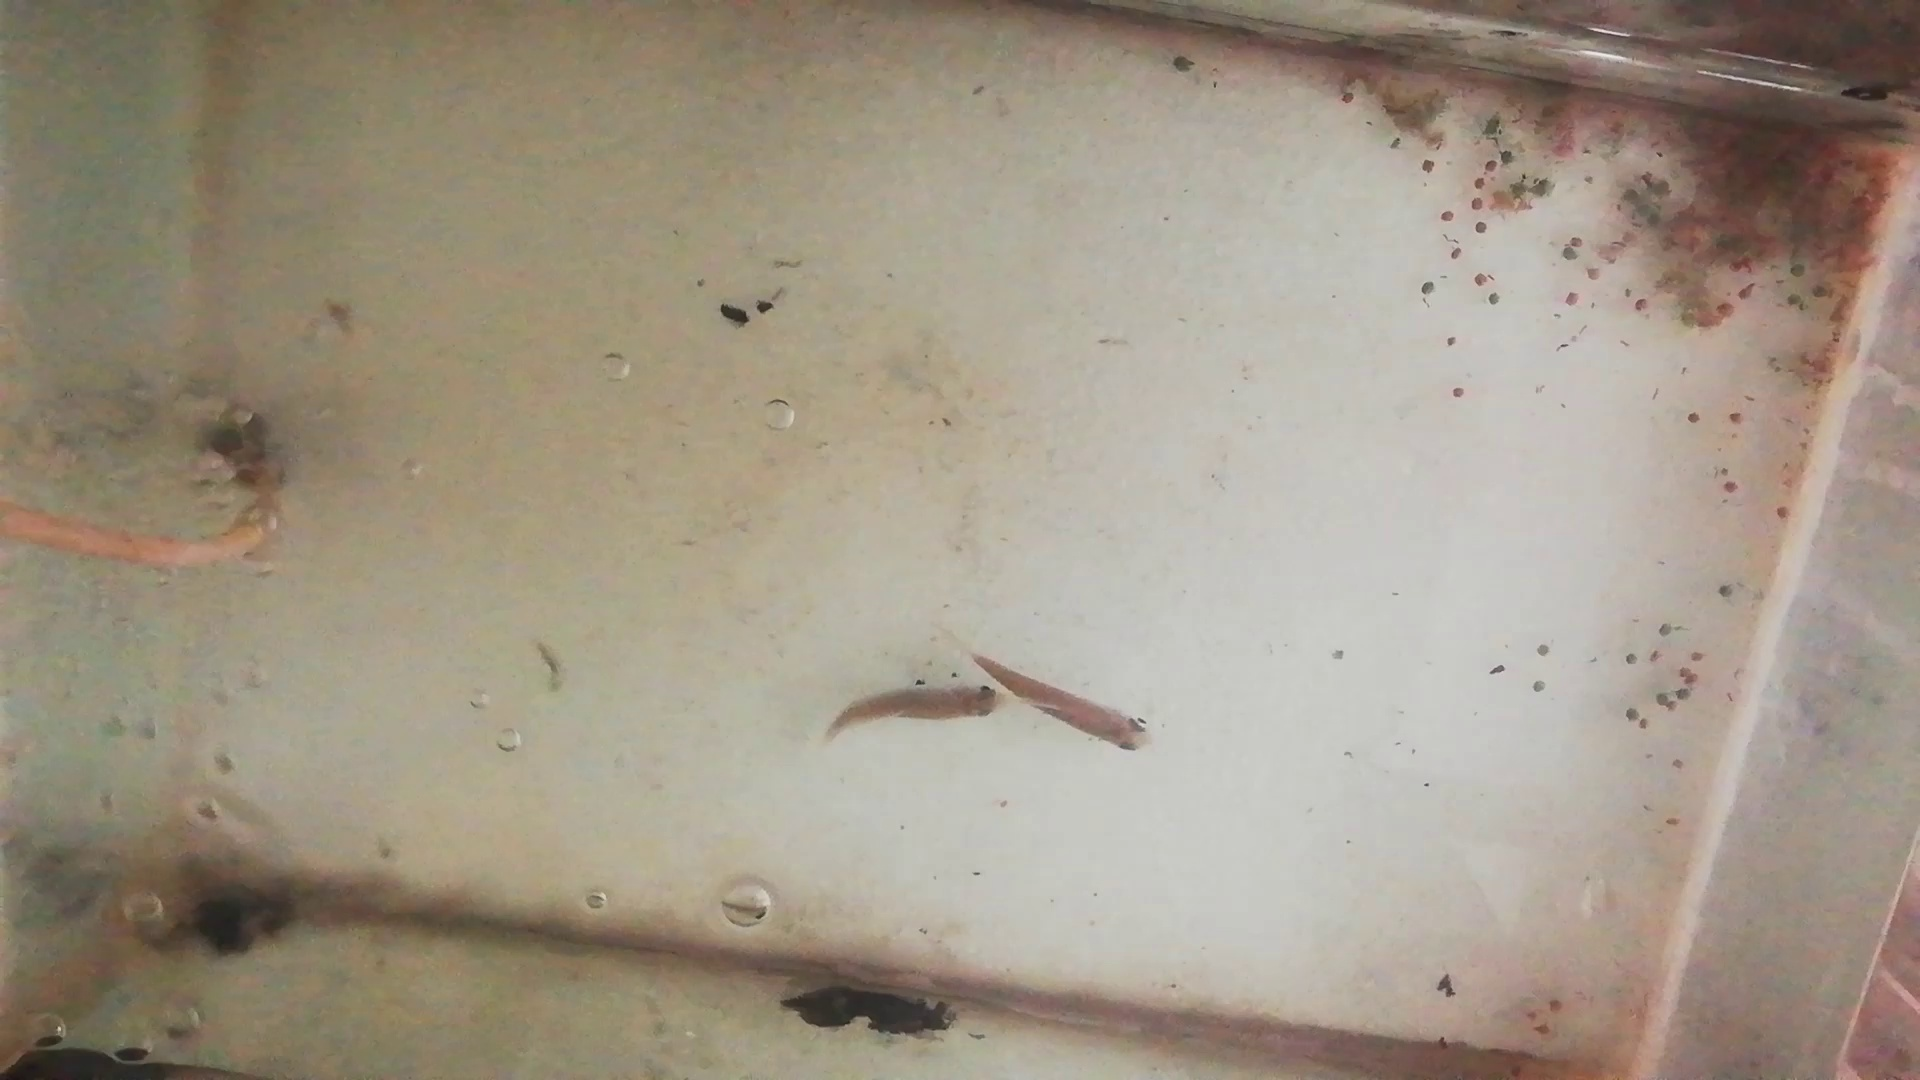fish: (968, 647, 1151, 756), (824, 683, 1010, 735)
